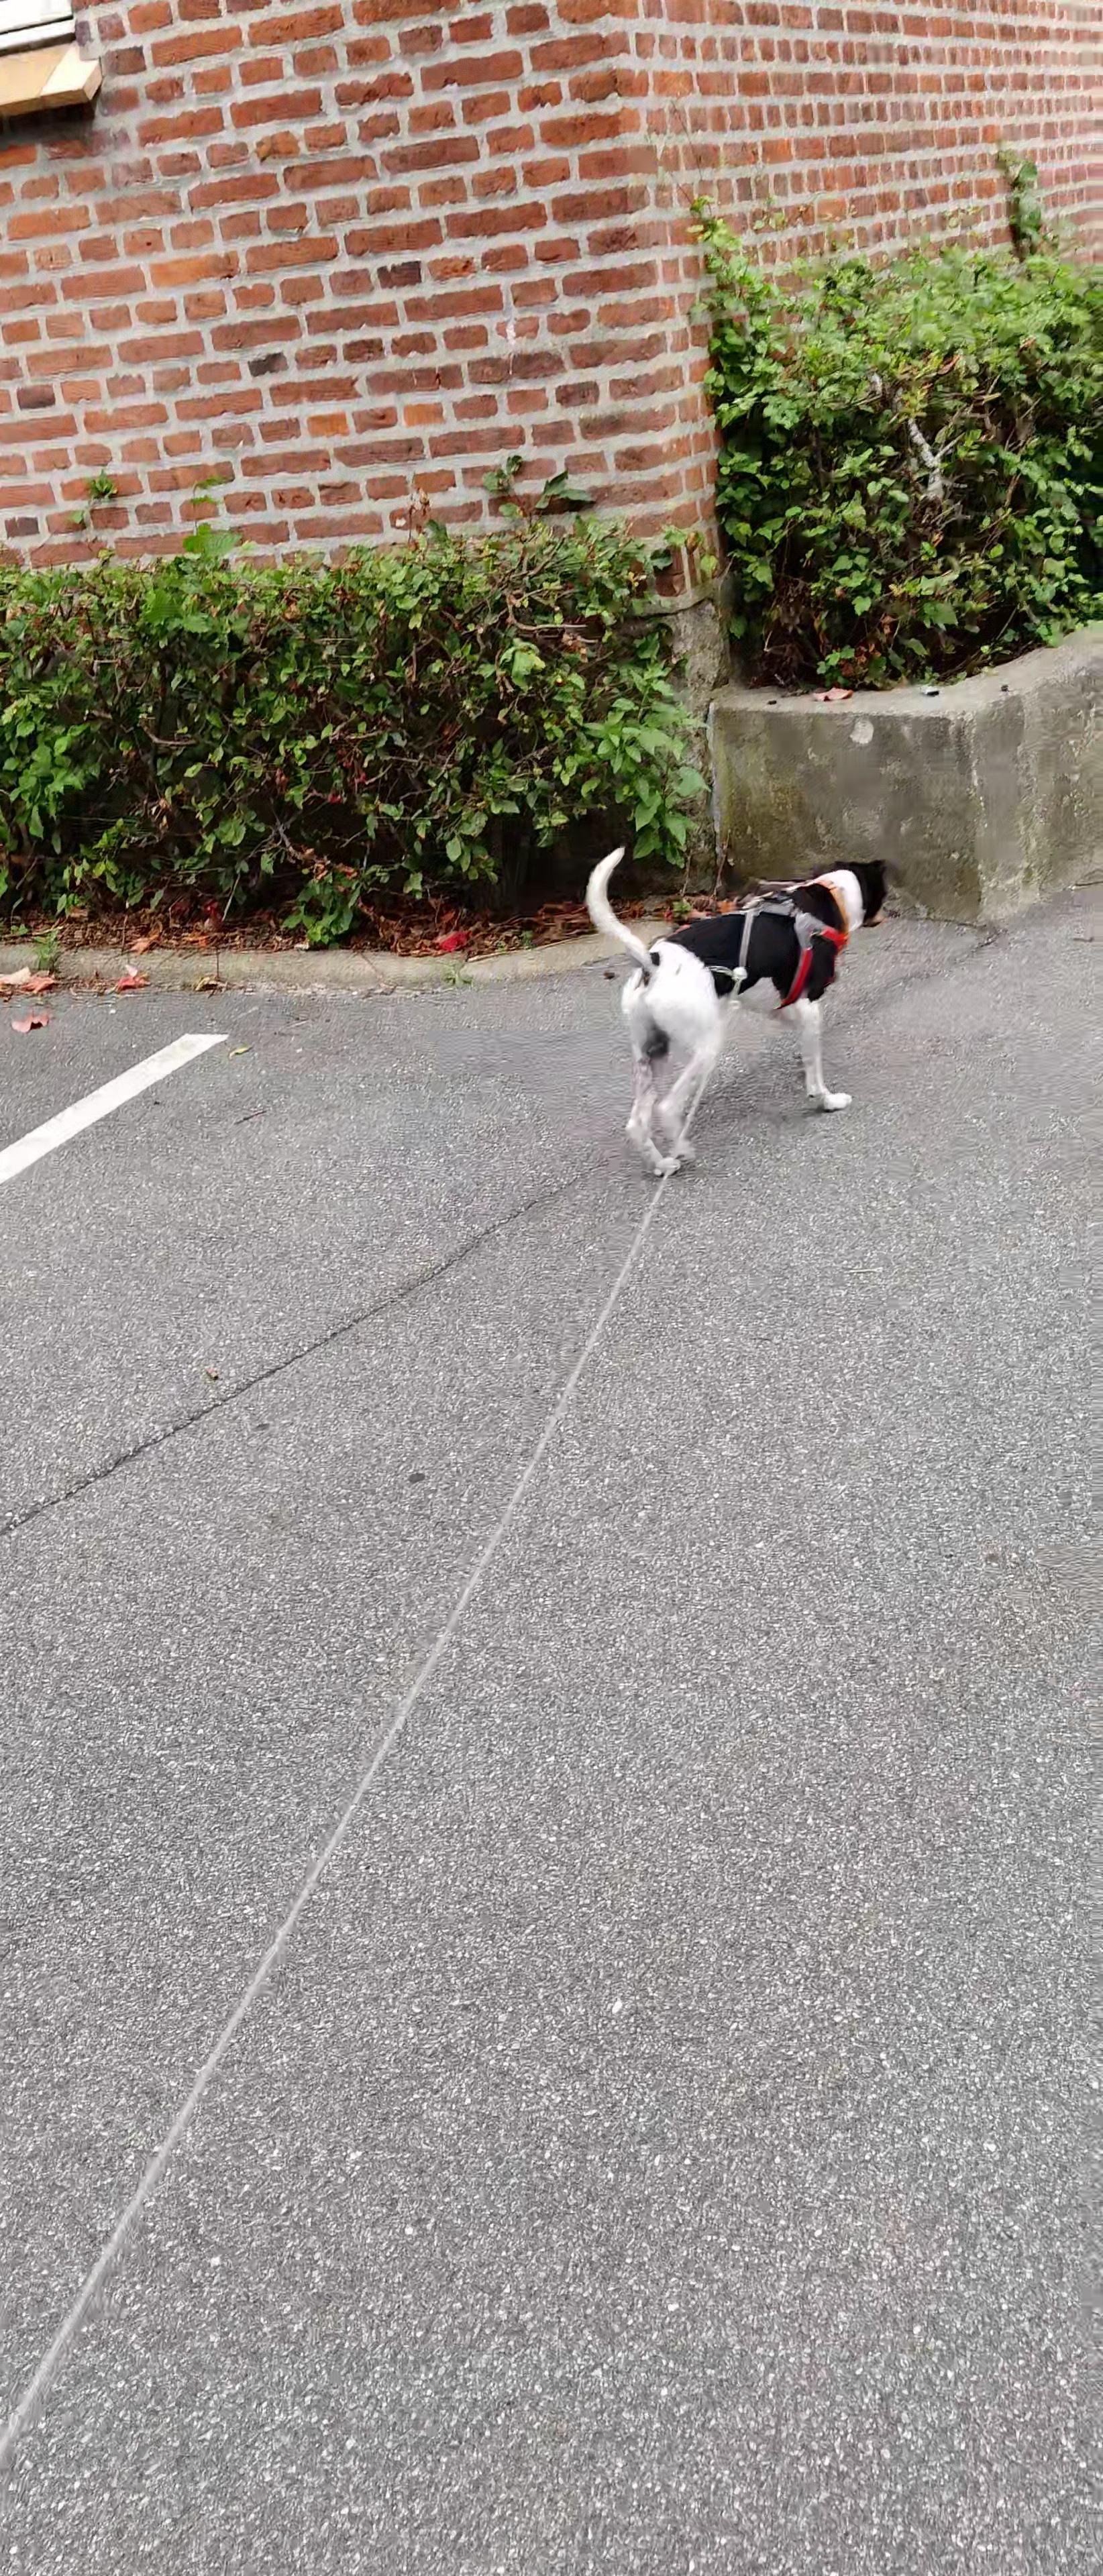Dog: (556, 821, 911, 1180)
